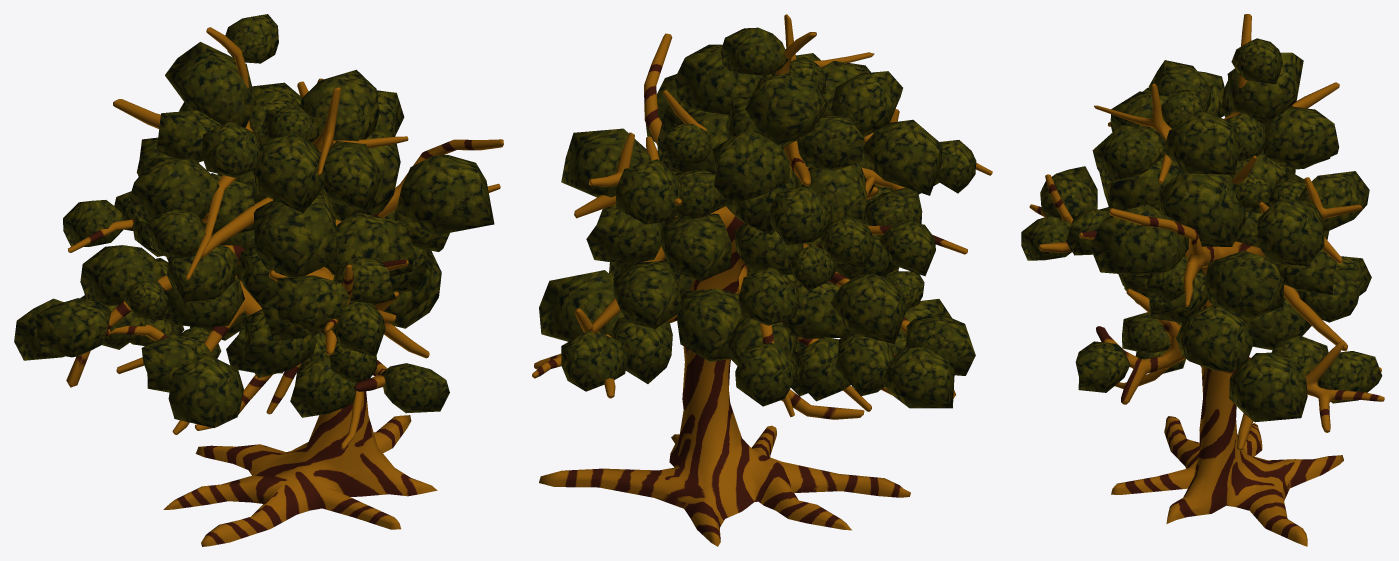
Rendered from tunnel_tree_D_1.fbx.
3 views of the same model, side by side, from view 1: azimuth 30°, elevation 25°; view 2: azimuth 150°, elevation 25°; view 3: azimuth 270°, elevation 25° (orthographic). The views are drawn at different scales.
Visible parts, largest first — view 1: tunnel_Tree_leaf_1, tunnel_Tree_D_trunk_D_1; view 2: tunnel_Tree_leaf_1, tunnel_Tree_D_trunk_D_1; view 3: tunnel_Tree_leaf_1, tunnel_Tree_D_trunk_D_1.
Boxes of the visible parts, x1,y1,x2,y2 form: tunnel_Tree_leaf_1: (14,14,494,427); tunnel_Tree_D_trunk_D_1: (66,27,503,546); tunnel_Tree_leaf_1: (539,27,976,408); tunnel_Tree_D_trunk_D_1: (532,14,992,546); tunnel_Tree_leaf_1: (1021,38,1382,422); tunnel_Tree_D_trunk_D_1: (1029,14,1384,546).
Bounding box in the file's own units: 1228 × 1314 × 1008.
